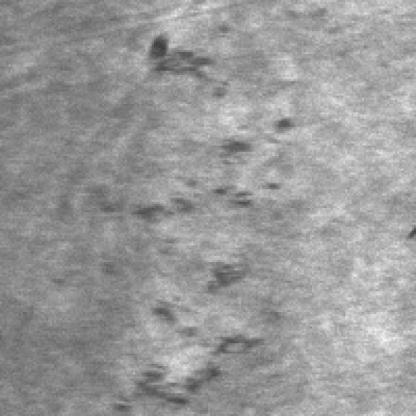rolled-in_scale: (125, 133, 256, 412), (137, 25, 235, 104)
